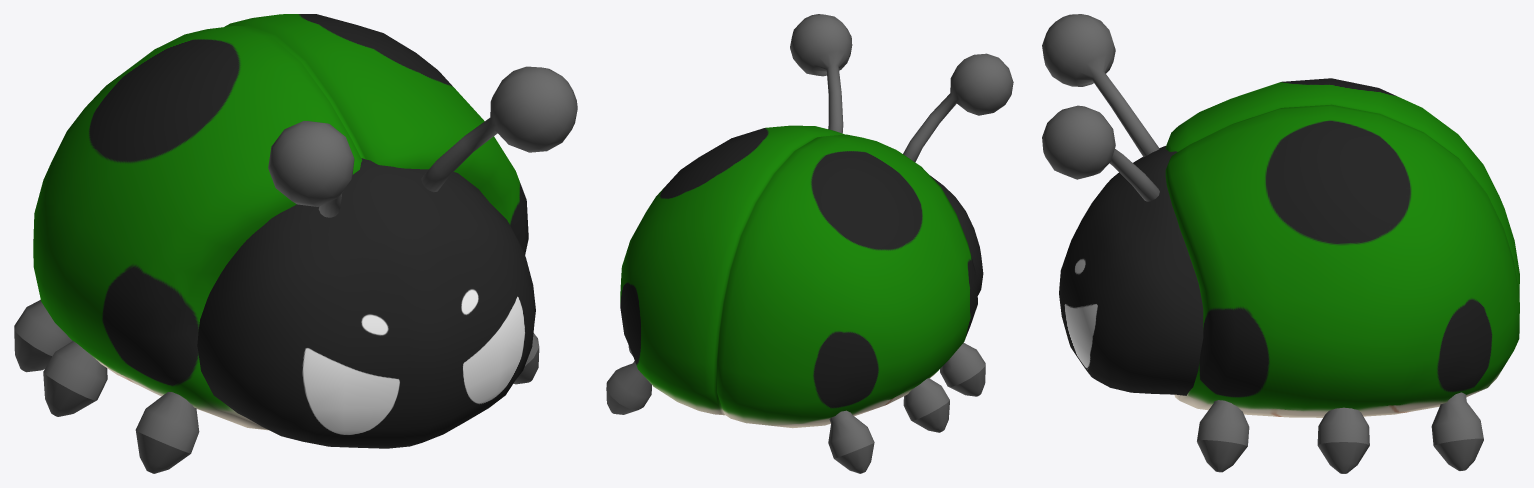
The model's file is ladybug_green.fbx.
3 renders of one model, left to right at view 1: azimuth 30°, elevation 25°; view 2: azimuth 150°, elevation 25°; view 3: azimuth 270°, elevation 25°, orthographic. The views are drawn at different scales.
Visible parts, largest first — view 1: bd, hd, ant, lg; view 2: bd, ant, lg, hd; view 3: bd, hd, ant, lg.
Boxes of the visible parts, box(x1,y1,x2,y2) form: bd: box(33, 14, 528, 430); hd: box(197, 158, 535, 448); ant: box(268, 66, 577, 217); lg: box(14, 299, 539, 473); bd: box(620, 125, 977, 428); ant: box(790, 14, 1013, 162); lg: box(606, 342, 985, 473); hd: box(930, 175, 983, 295); bd: box(1165, 78, 1519, 417); hd: box(1059, 146, 1203, 395); ant: box(1042, 14, 1159, 201); lg: box(1197, 392, 1483, 473).
Bounding box in the file's own units: 115 × 100 × 129.
3 materials, 2 textured.
